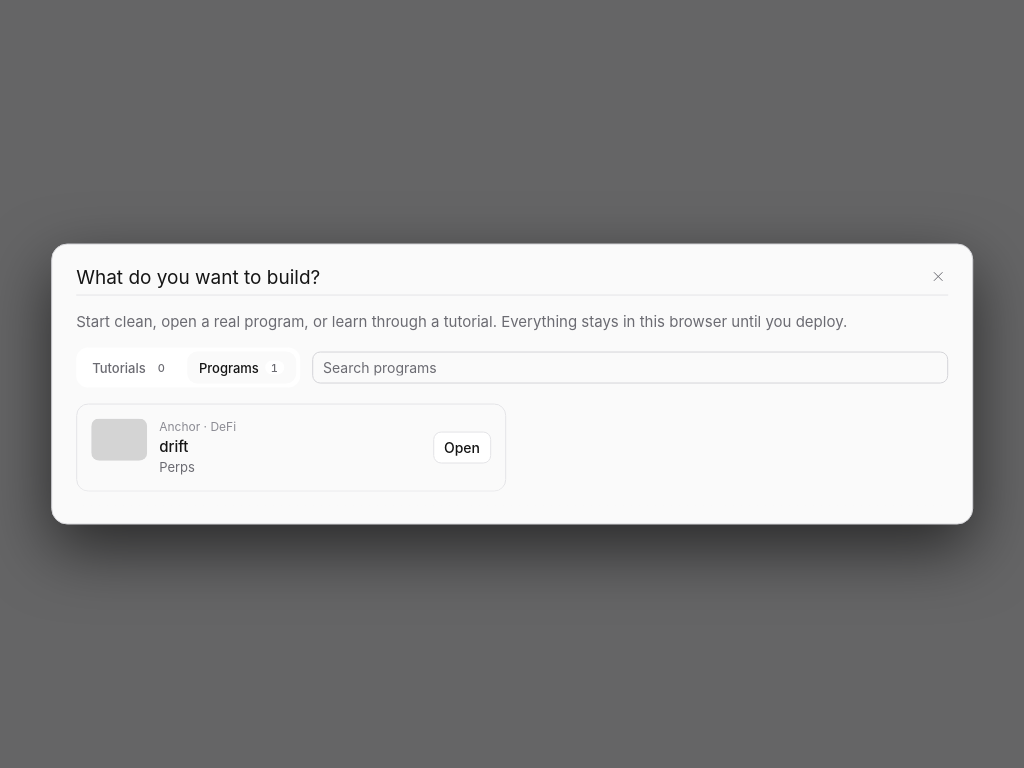
Test case: leaves another dialog open when an import ends after New project was dismissed
Click the button with aria-label "Open drift" at coordinates (462, 447), box x1=433 y1=431 x2=491 y2=463
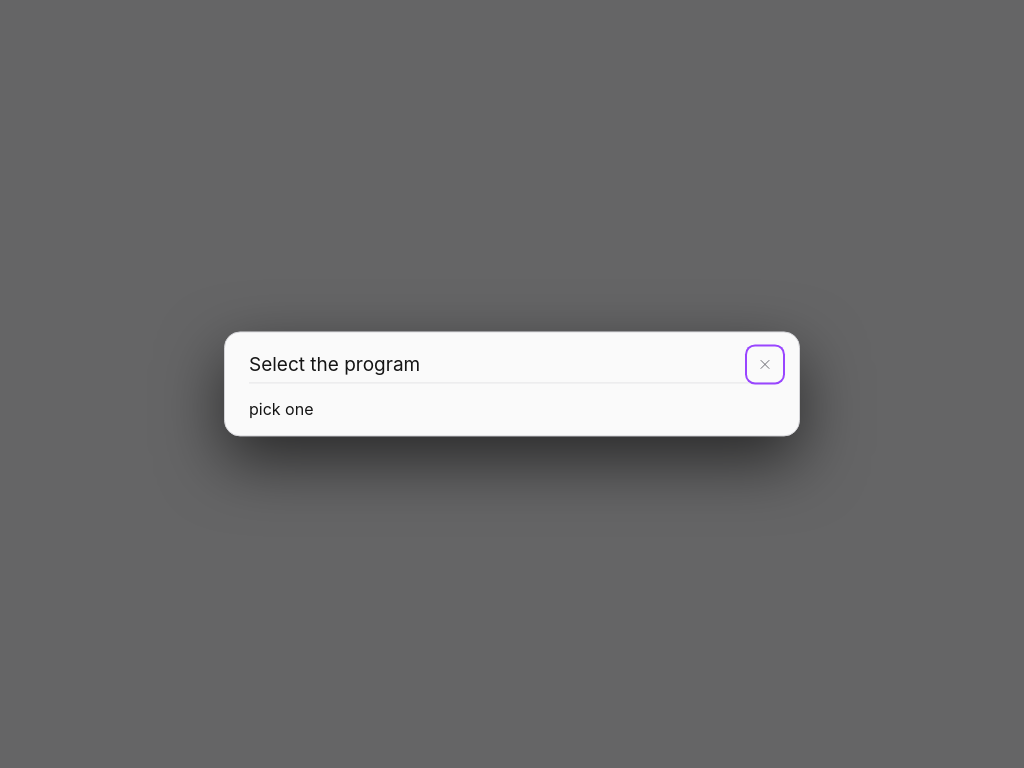
Expected: the heading "What do you want to build?" is gone
Expected: the dialog "Select the program" is shown, x1=224 y1=331 x2=800 y2=436
